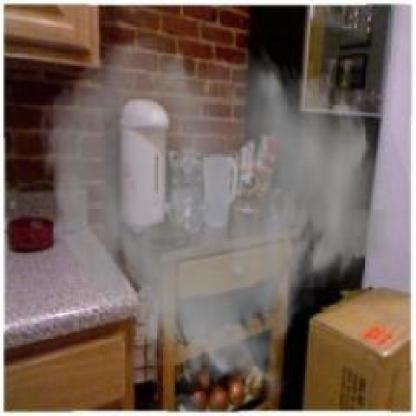Smoke: (37, 34, 396, 401)
